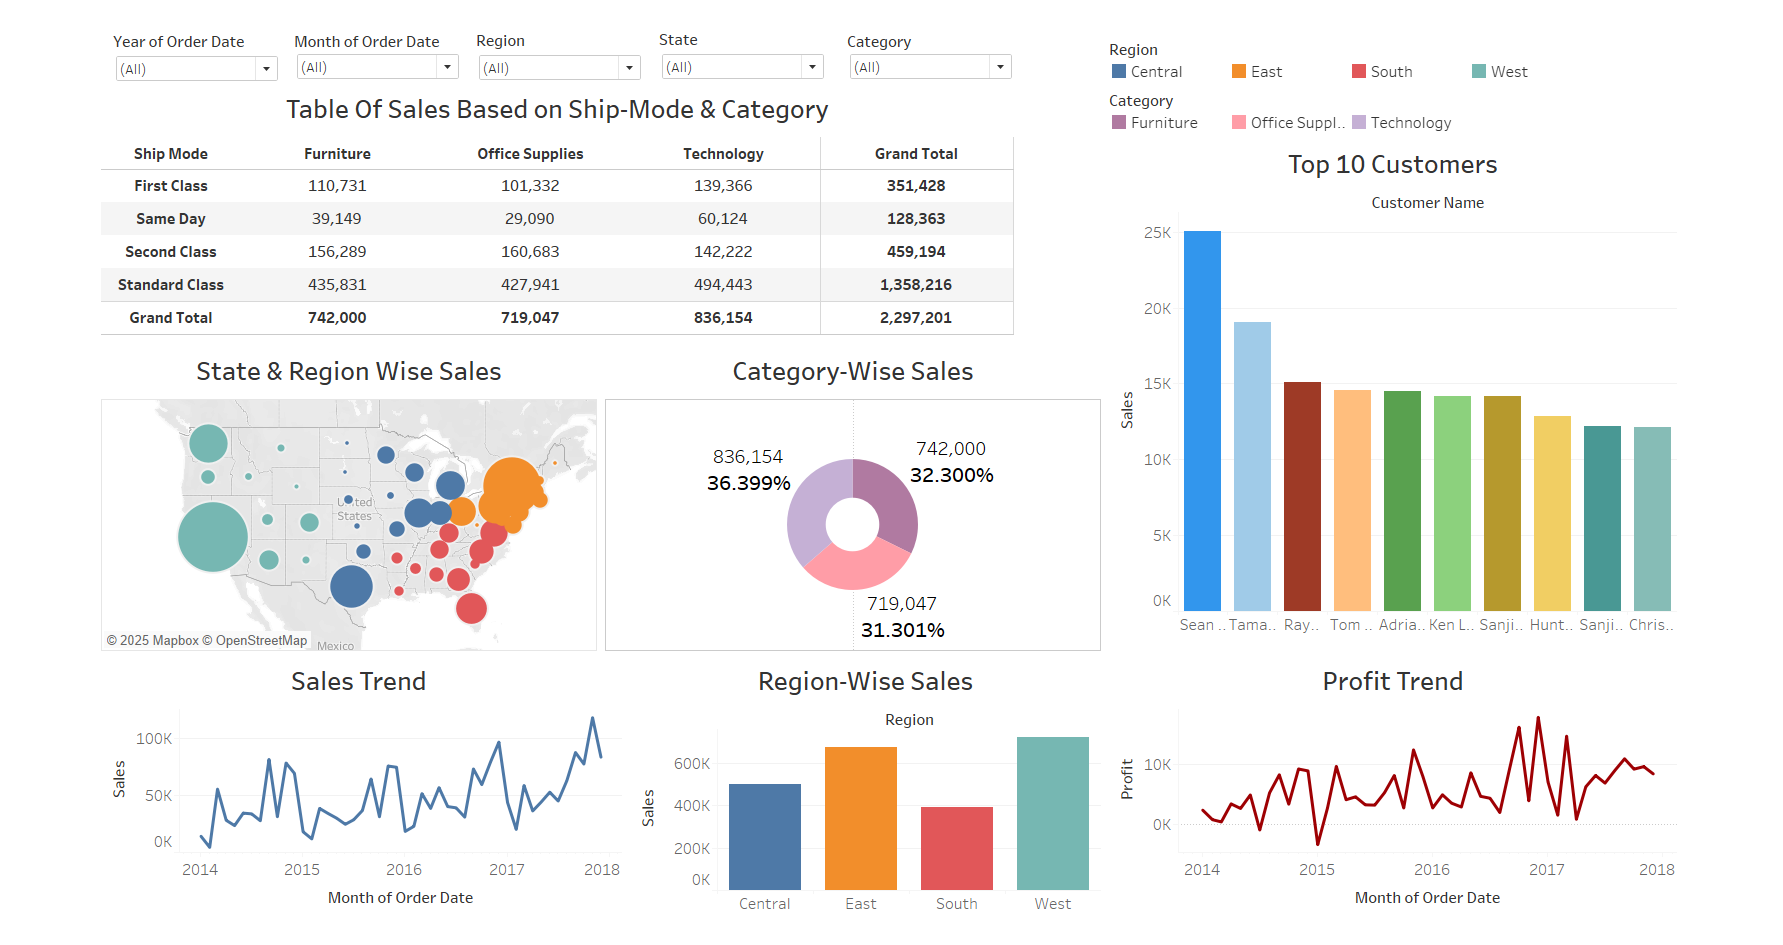

The dashboard page shown, as its layout file describes it:
{"tool":"tableau","page":{"name":"Dashboard 1","canvas":[1600,900],"ordinal":0},"visuals":[{"type":"filter","title":"Sheet 7","param":"[federated.0sto4950nut26f15ewkib0ebf06z].[none:State:nk]","box":[570,2,168,54]},{"type":"filter","title":"Sheet 7","param":"[federated.0sto4950nut26f15ewkib0ebf06z].[none:Region:nk]","box":[387,3,168,54]},{"type":"filter","title":"Sheet 7","param":"[federated.0sto4950nut26f15ewkib0ebf06z].[yr:Order Date:ok]","box":[24,4,168,54]},{"type":"filter","title":"Sheet 7","param":"[federated.0sto4950nut26f15ewkib0ebf06z].[mn:Order Date:ok]","box":[205,4,168,50]},{"type":"filter","title":"Sheet 7","param":"[federated.0sto4950nut26f15ewkib0ebf06z].[none:Category:nk]","box":[758,4,168,50]},{"type":"worksheet","title":"Sheet 7","mark":"Automatic","box":[8,8,1008,48]},{"type":"legend","title":"Sheet 8","param":"[federated.0sto4950nut26f15ewkib0ebf06z].[none:Region:nk]","box":[1016,8,576,51.5]},{"type":"worksheet","title":"Sheet 5","mark":"Automatic","rows":["Ship Mode"],"cols":["Category"],"box":[8,56,1008,262]},{"type":"legend","title":"Sheet 3","param":"[federated.0sto4950nut26f15ewkib0ebf06z].[none:Category:nk]","box":[1016,59.5,576,51.5]},{"type":"worksheet","title":"Sheet 6","mark":"Automatic","rows":["Sales"],"cols":["Customer Name"],"box":[1016,111,576,517]},{"type":"worksheet","title":"Sheet 8","mark":"Automatic","box":[8,318,504,310]},{"type":"worksheet","title":"Sheet 3","mark":"Pie","cols":["Calculation_3347300423897800708","Calculation_3347300423897837574"],"box":[512,318,504,310]},{"type":"worksheet","title":"Sheet 1","mark":"Automatic","rows":["Sales"],"cols":["Order Date"],"box":[8,628,528.7,264]},{"type":"worksheet","title":"Sheet 2","mark":"Automatic","rows":["Sales"],"cols":["Region"],"box":[536.7,628,479.3,264]},{"type":"worksheet","title":"Sheet 4","mark":"Automatic","rows":["Profit"],"cols":["Order Date"],"box":[1016,628,576,264]}]}

Visuals, with their boxes on the page's 1600x900 design canvas (x1, y1, x2, y2). These are canvas units, not pixel positions in the 1783x945 screenshot, which may show the page scaled, cropped or inside an application window:
"Sheet 7" filter: box=[570, 2, 738, 56]
"Sheet 7" filter: box=[387, 3, 555, 57]
"Sheet 7" filter: box=[24, 4, 192, 58]
"Sheet 7" filter: box=[205, 4, 373, 54]
"Sheet 7" filter: box=[758, 4, 926, 54]
"Sheet 7" worksheet: box=[8, 8, 1016, 56]
"Sheet 8" legend: box=[1016, 8, 1592, 60]
"Sheet 5" worksheet: box=[8, 56, 1016, 318]
"Sheet 3" legend: box=[1016, 60, 1592, 111]
"Sheet 6" worksheet: box=[1016, 111, 1592, 628]
"Sheet 8" worksheet: box=[8, 318, 512, 628]
"Sheet 3" worksheet (Pie marks): box=[512, 318, 1016, 628]
"Sheet 1" worksheet: box=[8, 628, 537, 892]
"Sheet 2" worksheet: box=[537, 628, 1016, 892]
"Sheet 4" worksheet: box=[1016, 628, 1592, 892]
